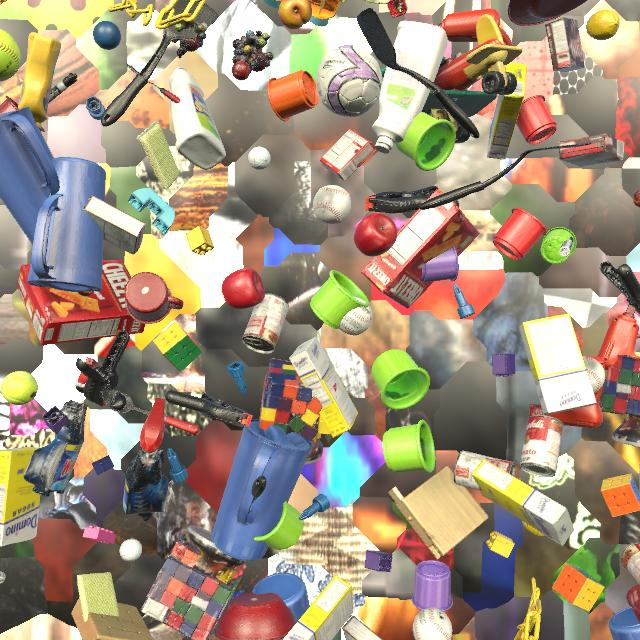ycb_003_cracker_box: (361, 189, 480, 309), (17, 260, 146, 345)
ycb_004_sugar_box: (472, 459, 574, 546), (519, 314, 597, 415), (289, 337, 358, 438), (283, 575, 354, 640), (0, 447, 40, 547), (487, 62, 527, 160)
ycb_005_tomato_soup_can: (242, 293, 289, 354), (520, 415, 564, 478), (454, 451, 516, 491), (621, 542, 640, 585)
ycb_006_mustard_bottle: (18, 32, 61, 128)
ycb_008_pudding_box: (83, 195, 146, 255), (558, 133, 624, 167), (545, 17, 585, 72), (342, 615, 383, 640)
ycb_009_gelatin_box: (320, 128, 376, 182)
ycb_013_apple: (354, 213, 397, 256), (221, 268, 265, 309)
ycb_014_lemon: (586, 10, 620, 40), (522, 521, 545, 536)
ycb_015_peach: (279, 0, 312, 30)
ycb_018_plum: (288, 426, 291, 430)
